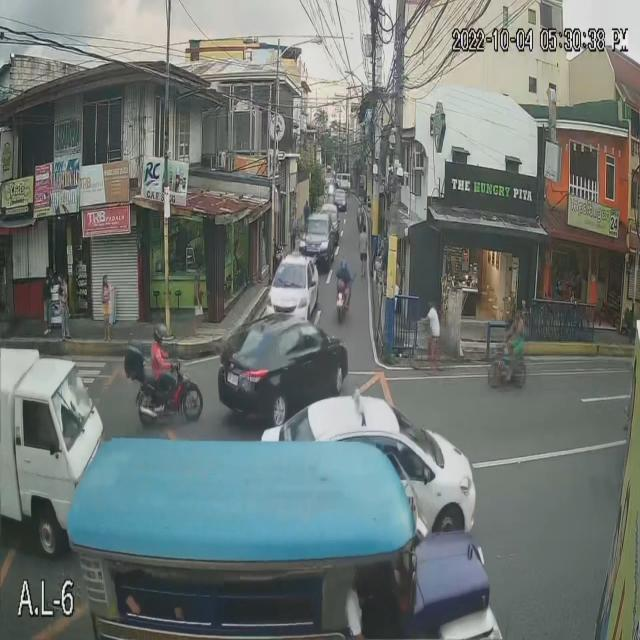Full-Faced: (154, 320, 167, 347), (341, 255, 346, 278), (357, 201, 365, 211)
Invalid: (336, 263, 342, 287)
